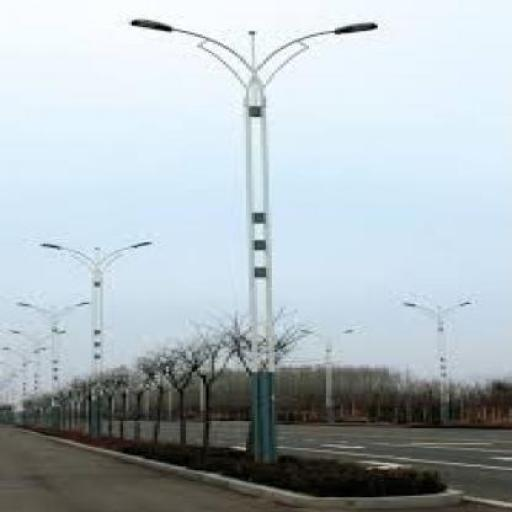street light: (129, 14, 378, 464), (41, 236, 152, 435), (15, 299, 89, 425), (397, 299, 469, 423), (298, 328, 360, 420)
